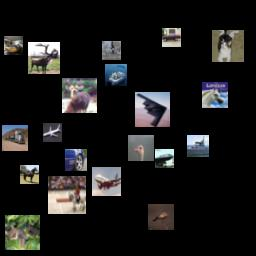airplane: (135, 92, 170, 127), (92, 167, 121, 196), (155, 149, 174, 168), (43, 123, 62, 142)
automobile: (65, 149, 87, 171), (162, 28, 181, 47)
bird: (148, 204, 174, 230), (128, 135, 154, 161)
cat: (5, 215, 40, 250), (212, 30, 244, 62)
deer: (62, 78, 97, 113), (28, 42, 60, 74)
ship: (105, 64, 127, 86), (187, 135, 209, 157), (4, 36, 23, 55)
truck: (2, 125, 28, 151)
